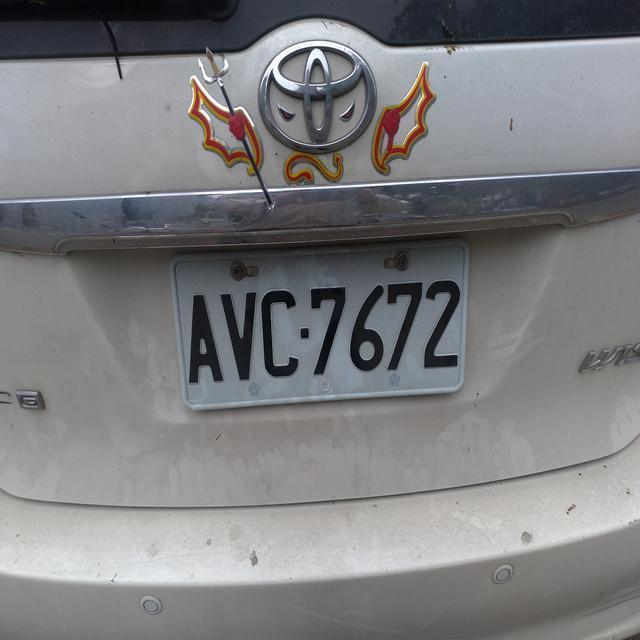plate: (170, 274, 471, 391)
